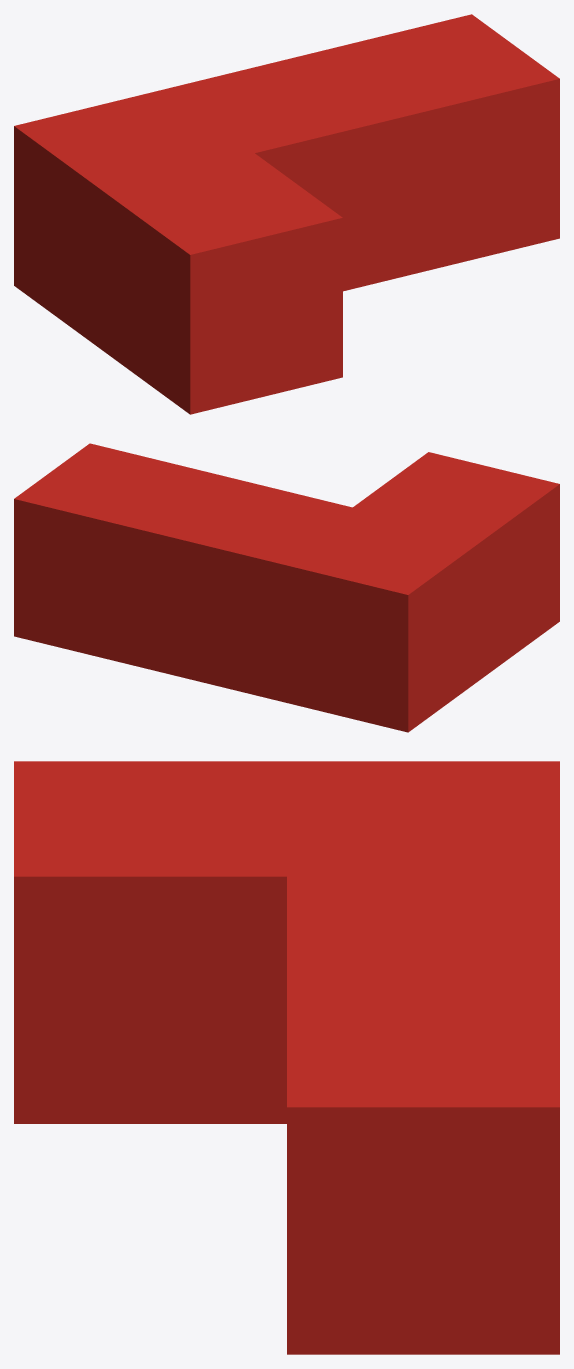
Rendered from LBlock.fbx.
The picture shows the model from 3 angles, top to bottom: view 1: azimuth 30°, elevation 25°; view 2: azimuth 150°, elevation 25°; view 3: azimuth 270°, elevation 25°; orthographic projection. The views are drawn at different scales.
Visible parts, largest first — view 1: LBlock; view 2: LBlock; view 3: LBlock.
Part boxes in pixels (<box>): LBlock: <box>14,14,559,414</box>; LBlock: <box>14,443,559,732</box>; LBlock: <box>14,761,559,1354</box>.
Bounding box in the file's own units: 8 × 12 × 4.
